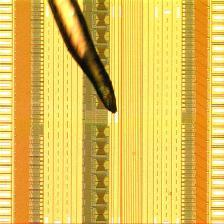BLOCK ETCH: (45, 1, 123, 120)
